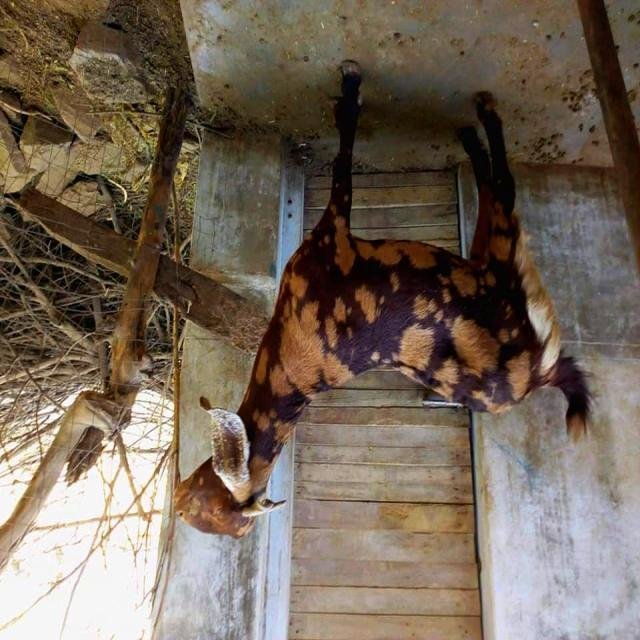Goat: (173, 61, 597, 543)
